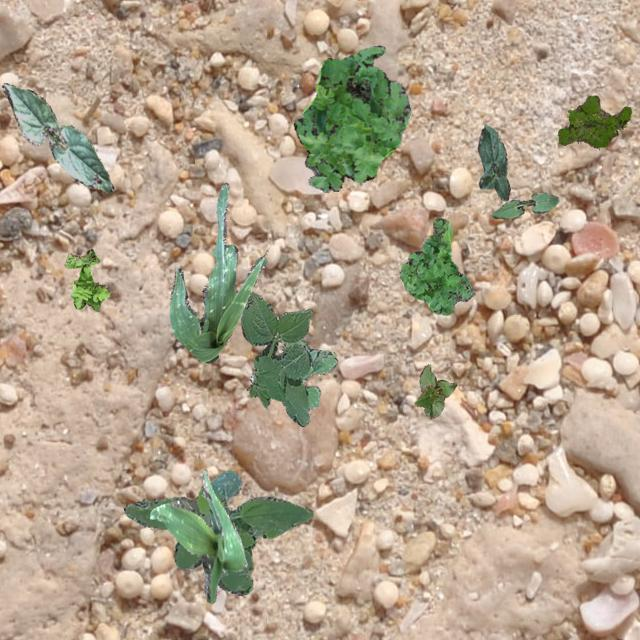crop: (168, 182, 266, 362), (148, 468, 246, 602), (1, 82, 112, 192), (476, 123, 508, 200), (414, 363, 456, 418), (490, 192, 558, 218)
weed: (122, 470, 312, 594), (292, 45, 410, 192), (240, 292, 312, 426), (398, 218, 474, 314), (250, 338, 336, 408), (558, 95, 630, 146), (64, 248, 108, 310)
